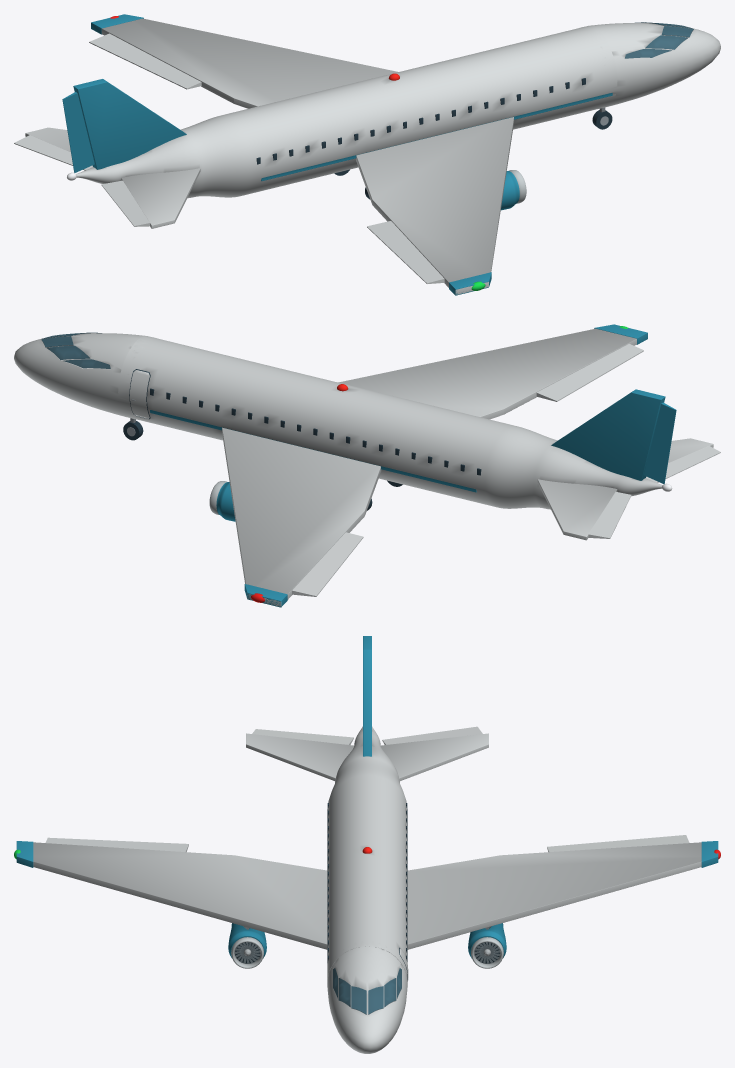
3 renders of one model, top to bottom at view 1: azimuth 30°, elevation 25°; view 2: azimuth 150°, elevation 25°; view 3: azimuth 270°, elevation 25°, orthographic. The views are drawn at different scales.
Visible parts, largest first — view 1: Fuselage, Wing 1, Wing -1, Nose hemisphere, Vertical stabilizer, Tailplane 1, Left Aileron, Right Aileron, Rudder, Right Elevator, Livery 1, Left Elevator (+2 smaller); view 2: Fuselage, Wing -1, Wing 1, Nose hemisphere, Vertical stabilizer, Tailplane -1, Right Aileron, Left Aileron, Rudder, Left Elevator, Boarding door skin, Livery -1 (+4 smaller); view 3: Wing -1, Wing 1, Fuselage, Nose hemisphere, Tailplane -1, Tailplane 1, Vertical stabilizer, Right Aileron, Left Aileron, Right Elevator, Left Elevator.
Part boxes in pixels (bbox=[...]): Fuselage: bbox=[76, 25, 617, 198]; Wing 1: bbox=[356, 117, 514, 294]; Wing -1: bbox=[101, 18, 397, 108]; Nose hemisphere: bbox=[579, 23, 720, 108]; Vertical stabilizer: bbox=[73, 79, 186, 169]; Tailplane 1: bbox=[121, 168, 200, 228]; Left Aileron: bbox=[89, 33, 201, 89]; Right Aileron: bbox=[367, 221, 444, 283]; Rudder: bbox=[62, 92, 94, 172]; Right Elevator: bbox=[101, 180, 149, 226]; Livery 1: bbox=[261, 93, 612, 181]; Left Elevator: bbox=[14, 135, 92, 170]; Fuselage: bbox=[118, 336, 662, 509]; Wing -1: bbox=[222, 427, 381, 606]; Wing 1: bbox=[338, 328, 636, 419]; Nose hemisphere: bbox=[14, 333, 156, 418]; Vertical stabilizer: bbox=[551, 389, 665, 480]; Tailplane -1: bbox=[537, 479, 617, 540]; Right Aileron: bbox=[536, 343, 643, 401]; Left Aileron: bbox=[292, 532, 363, 596]; Rudder: bbox=[644, 402, 676, 484]; Left Elevator: bbox=[588, 492, 631, 538]; Boarding door skin: bbox=[130, 370, 149, 418]; Livery -1: bbox=[150, 410, 476, 492]; Wing -1: bbox=[407, 842, 701, 949]; Wing 1: bbox=[33, 842, 327, 949]; Fuselage: bbox=[327, 726, 407, 1014]; Nose hemisphere: bbox=[327, 941, 407, 1053]; Tailplane -1: bbox=[381, 733, 488, 780]; Tailplane 1: bbox=[246, 733, 353, 780]; Vertical stabilizer: bbox=[363, 636, 371, 756]; Right Aileron: bbox=[45, 837, 188, 852]; Left Aileron: bbox=[547, 835, 689, 852]; Right Elevator: bbox=[252, 729, 353, 744]; Left Elevator: bbox=[382, 726, 482, 744].
Bounding box in the file's own units: 34.33 × 8.44 × 33.28.
